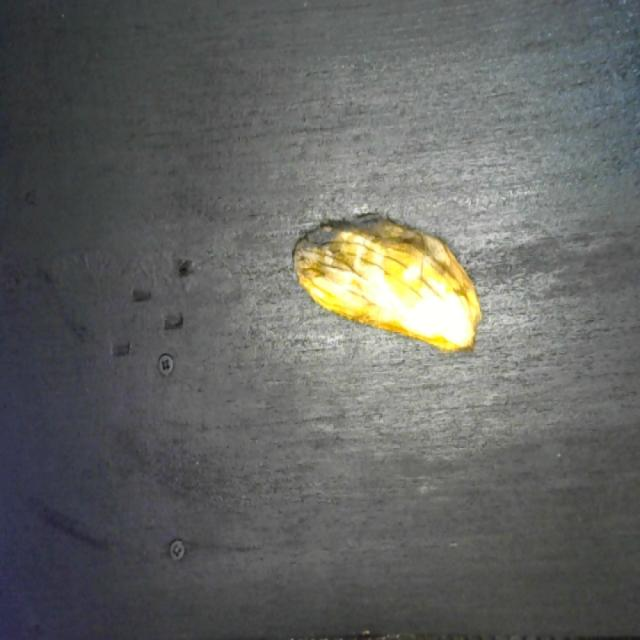biodegradable: (288, 199, 484, 360)
